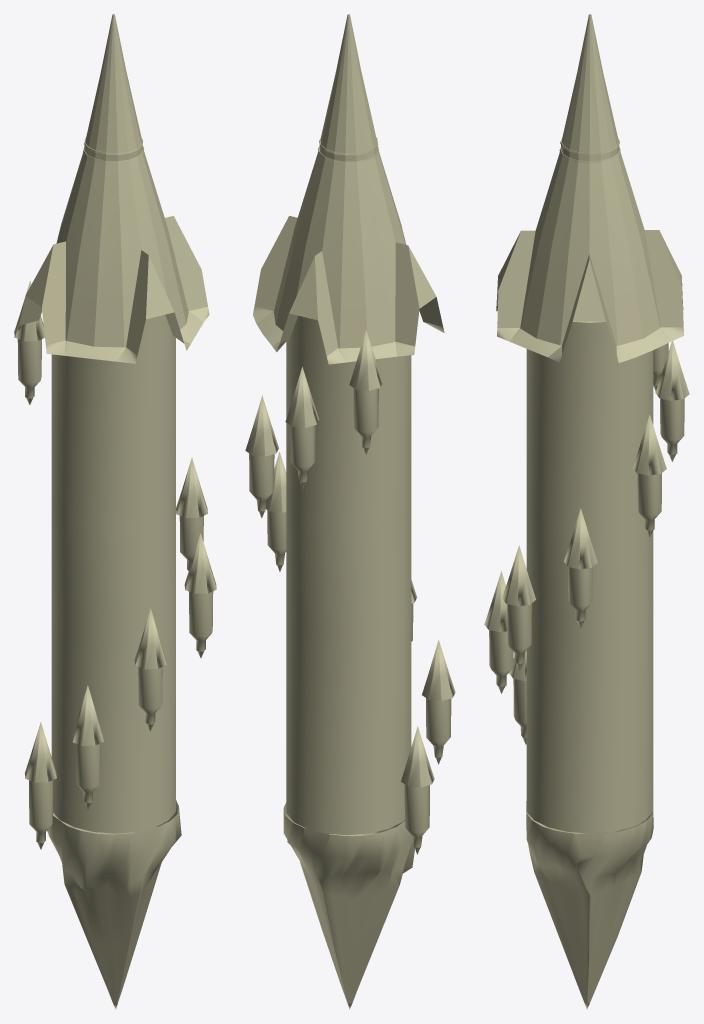
The model's file is Tower Low.obj.
3 views of the same model, side by side, from view 1: azimuth 30°, elevation 25°; view 2: azimuth 150°, elevation 25°; view 3: azimuth 270°, elevation 25° (orthographic).
Parts seen in each view (by area): view 1: Cylinder06_4, Pyramid01_3, Cylinder02_0, Cylinder04_1, Cylinder04_inst_8_1, Cylinder04_inst_6_1, Cylinder04_inst_2_1, Cylinder04_inst_7_1, telhadiho_2, telhadiho_inst_6_2, telhadiho_inst_8_2, telhadiho_inst_7_2 (+3 smaller); view 2: Cylinder06_4, Pyramid01_3, Cylinder02_0, Cylinder04_1, Cylinder04_inst_2_1, Cylinder04_inst_8_1, Cylinder04_inst_4_1, Cylinder04_inst_3_1, telhadiho_inst_2_2, telhadiho_2, telhadiho_inst_3_2, telhadiho_inst_4_2 (+3 smaller); view 3: Cylinder06_4, Pyramid01_3, Cylinder02_0, Cylinder04_inst_6_1, Cylinder04_inst_4_1, Cylinder04_inst_3_1, telhadiho_inst_4_2, Cylinder04_inst_5_1, telhadiho_inst_3_2, telhadiho_inst_5_2, telhadiho_inst_6_2, Cylinder04_inst_7_1 (+2 smaller).
Part boxes in pixels (x1,y1,x2,y2): Cylinder06_4: (51, 315, 175, 833); Pyramid01_3: (18, 14, 209, 363); Cylinder02_0: (47, 800, 181, 1009); Cylinder04_1: (29, 780, 53, 849); Cylinder04_inst_8_1: (76, 743, 100, 809); Cylinder04_inst_6_1: (189, 591, 213, 658); Cylinder04_inst_2_1: (17, 339, 41, 404); Cylinder04_inst_7_1: (138, 667, 162, 731); telhadiho_2: (24, 722, 56, 782); telhadiho_inst_6_2: (184, 533, 216, 593); telhadiho_inst_8_2: (71, 685, 103, 745); telhadiho_inst_7_2: (134, 608, 166, 669); Cylinder06_4: (286, 316, 411, 835); Pyramid01_3: (253, 14, 444, 364); Cylinder02_0: (283, 802, 414, 1009); Cylinder04_1: (404, 784, 429, 854); Cylinder04_inst_2_1: (353, 388, 378, 454); Cylinder04_inst_8_1: (426, 698, 451, 764); Cylinder04_inst_4_1: (249, 453, 274, 518); Cylinder04_inst_3_1: (290, 425, 315, 488); telhadiho_inst_2_2: (349, 329, 382, 390); telhadiho_2: (401, 726, 434, 787); telhadiho_inst_3_2: (285, 367, 319, 427); telhadiho_inst_4_2: (245, 395, 278, 456); Cylinder06_4: (526, 321, 653, 833); Pyramid01_3: (496, 14, 684, 362); Cylinder02_0: (526, 801, 653, 1009); Cylinder04_inst_6_1: (507, 603, 531, 670); Cylinder04_inst_4_1: (637, 473, 661, 537); Cylinder04_inst_3_1: (660, 398, 684, 461); telhadiho_inst_4_2: (632, 414, 666, 475); Cylinder04_inst_5_1: (568, 567, 592, 628); telhadiho_inst_3_2: (655, 341, 689, 400); telhadiho_inst_5_2: (564, 508, 597, 569); telhadiho_inst_6_2: (502, 545, 536, 606); Cylinder04_inst_7_1: (489, 630, 513, 693).
Size of the model in its own units: 26.94 by 147 by 27.49.
